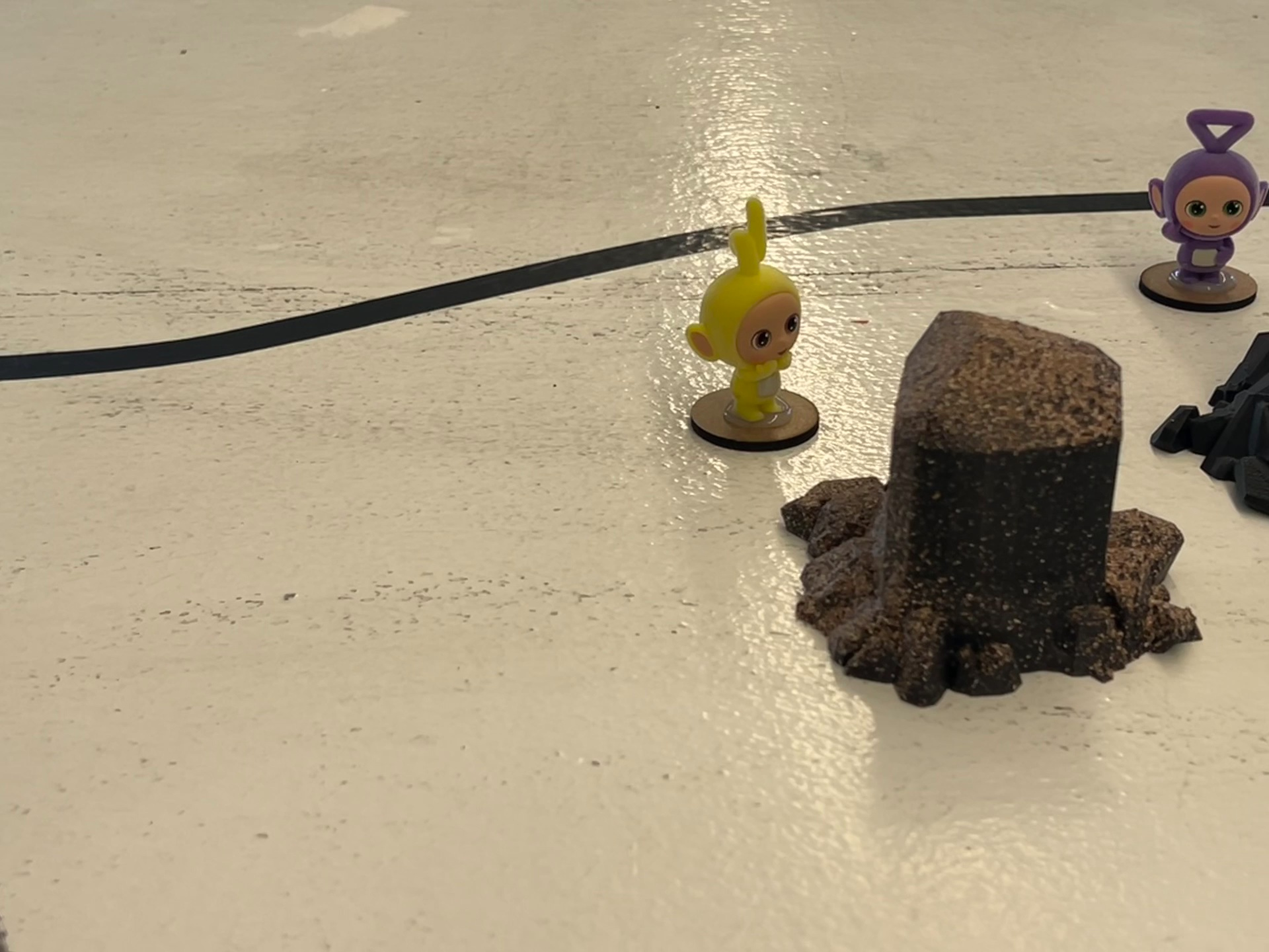teletubby: (685, 198, 802, 422), (1148, 108, 1268, 285)
